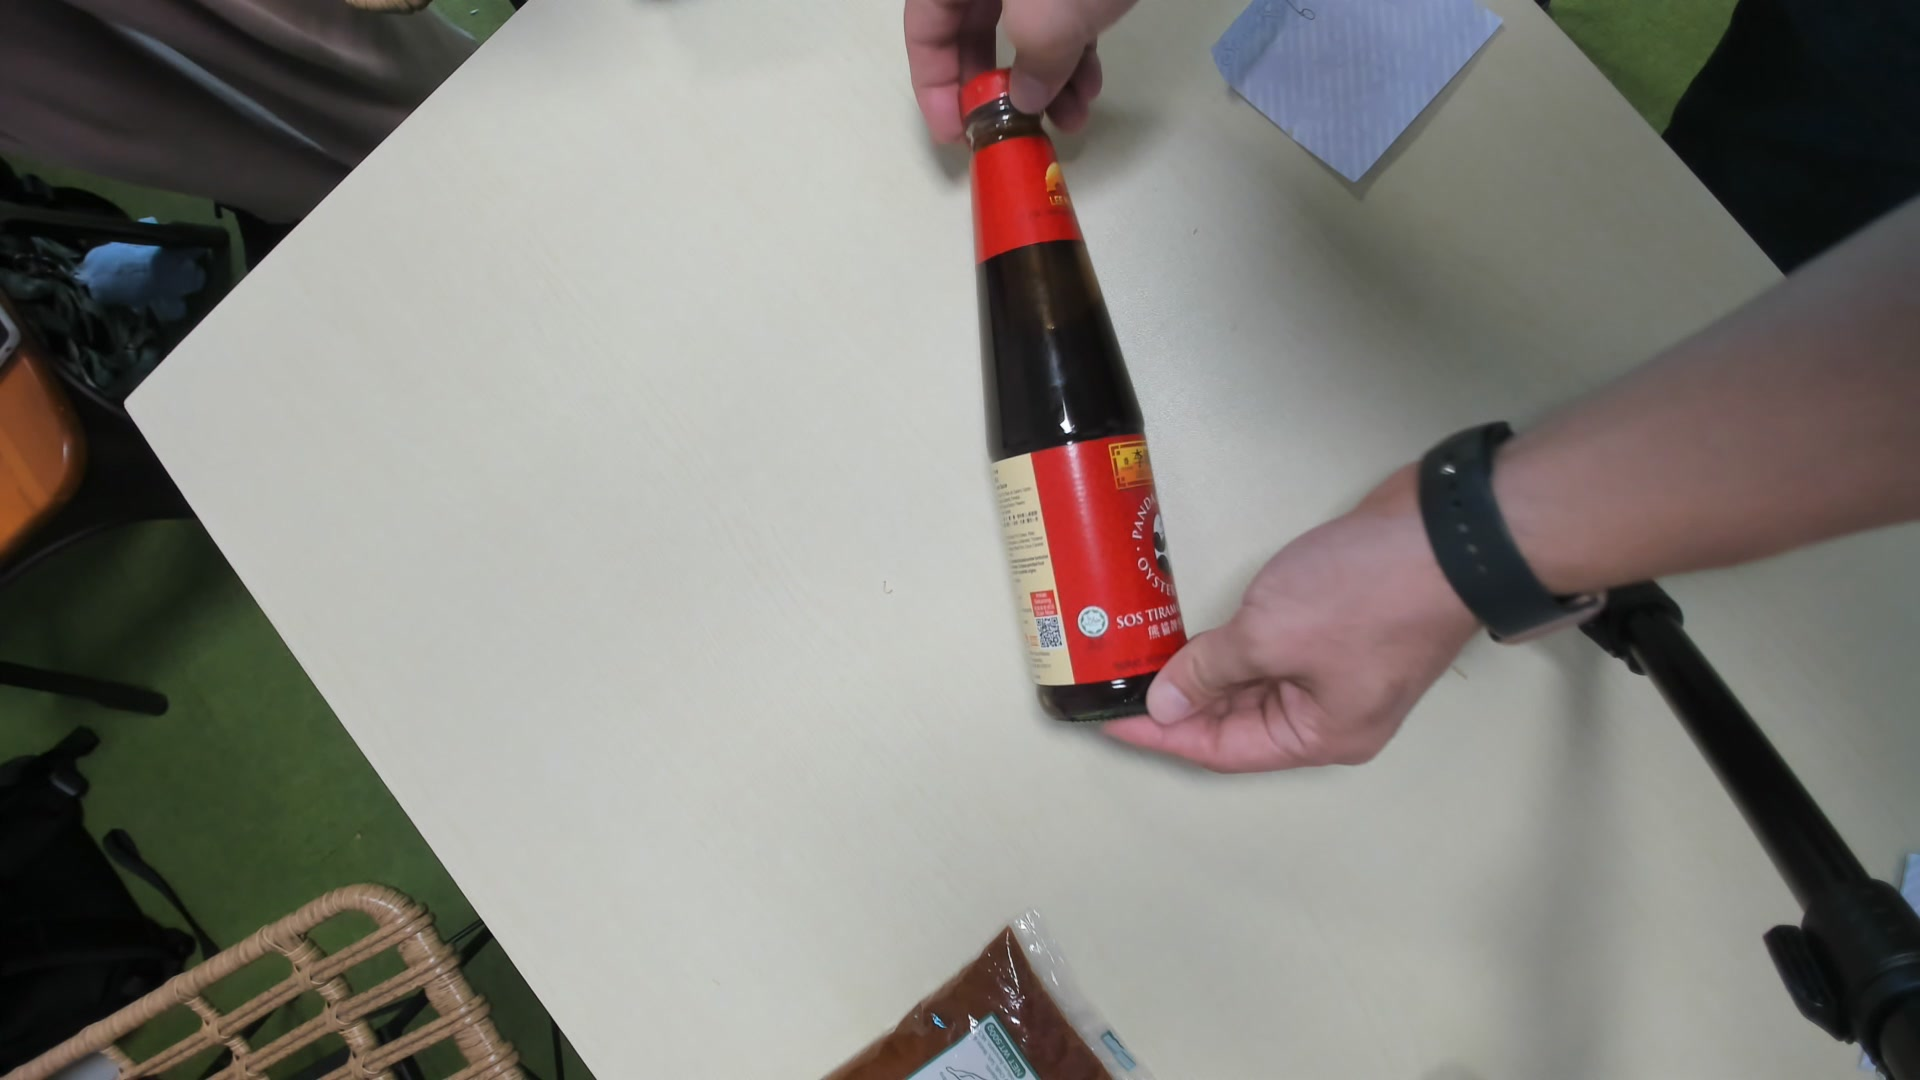OtherSauceDressingSoupbasePaste_500-599g_Halal_NonHealthy: (960, 67, 1191, 729)
